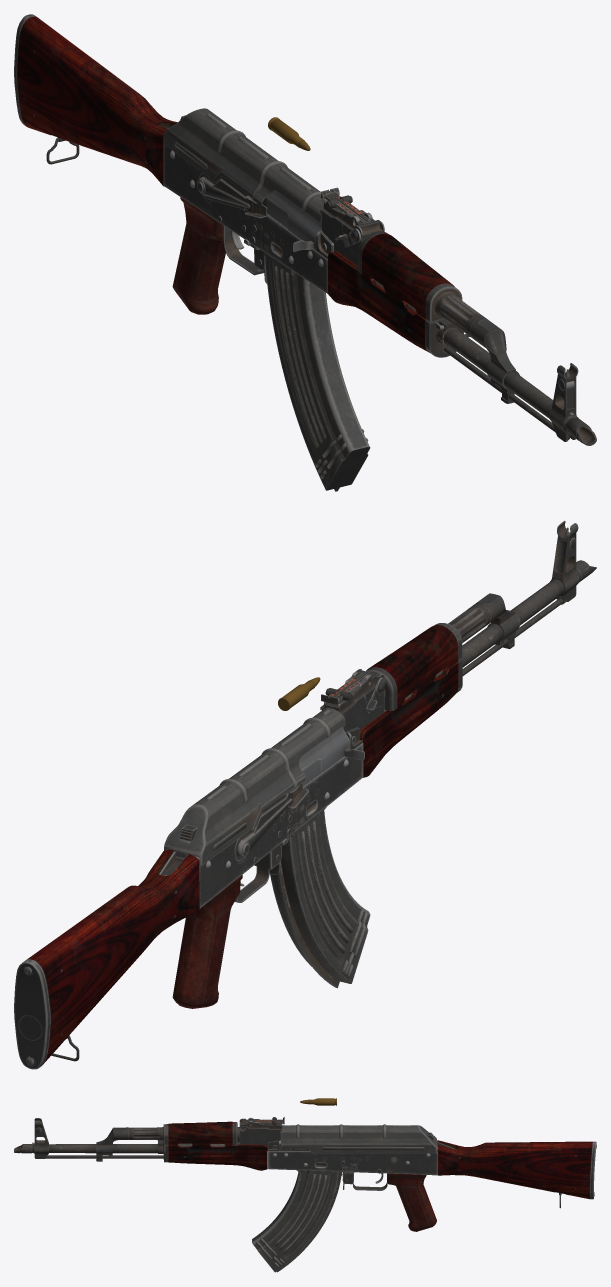
3 renders of one model, top to bottom at view 1: azimuth 30°, elevation 25°; view 2: azimuth 150°, elevation 25°; view 3: azimuth 270°, elevation 25°, orthographic. The views are drawn at different scales.
Parts seen in each view (by area): view 1: WPN_AKM, WPN_AKM_magazine, WPN_AKM_bolt_carrier, WPN_AKM_safetyswitch, WPN_AKM_rear_sight_leaf; view 2: WPN_AKM, WPN_AKM_magazine, WPN_AKM_bolt_carrier, WPN_AKM_safetyswitch; view 3: WPN_AKM, WPN_AKM_magazine.
Boxes of the visible parts, x1,y1,x2,y2 form: WPN_AKM: (14, 14, 596, 445); WPN_AKM_magazine: (263, 252, 370, 491); WPN_AKM_bolt_carrier: (266, 190, 321, 251); WPN_AKM_safetyswitch: (197, 172, 267, 218); WPN_AKM_rear_sight_leaf: (321, 187, 370, 223); WPN_AKM: (14, 520, 596, 1069); WPN_AKM_magazine: (270, 807, 370, 988); WPN_AKM_bolt_carrier: (286, 727, 364, 793); WPN_AKM_safetyswitch: (234, 783, 308, 861); WPN_AKM: (14, 1117, 596, 1231); WPN_AKM_magazine: (252, 1170, 342, 1272).
Bounding box in the file's own units: 5.68 × 28.73 × 88.06.
2 materials, 1 textured.
